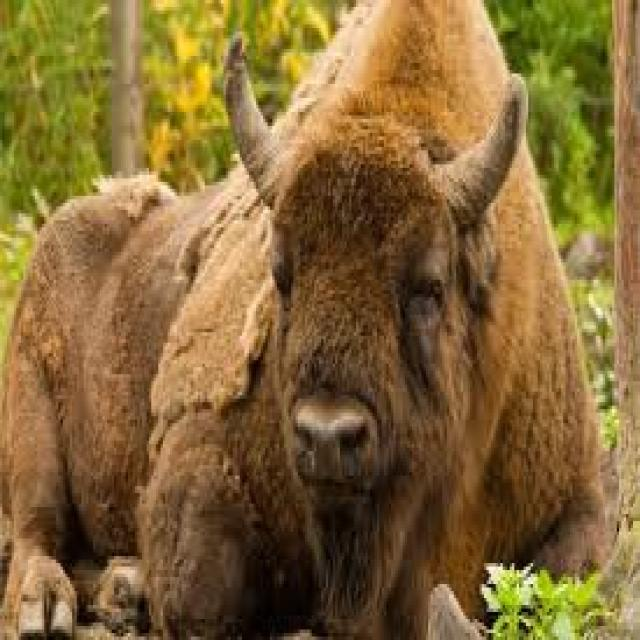bison: (0, 0, 600, 637)
